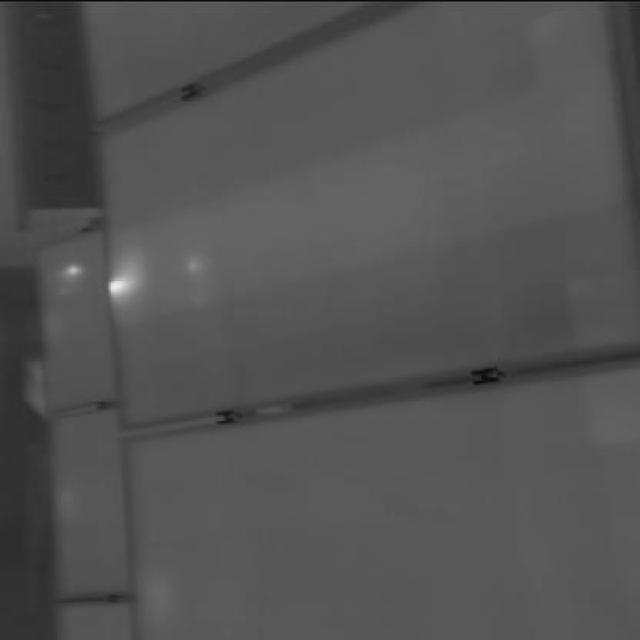hotspot: (105, 262, 138, 304), (55, 259, 82, 299)
